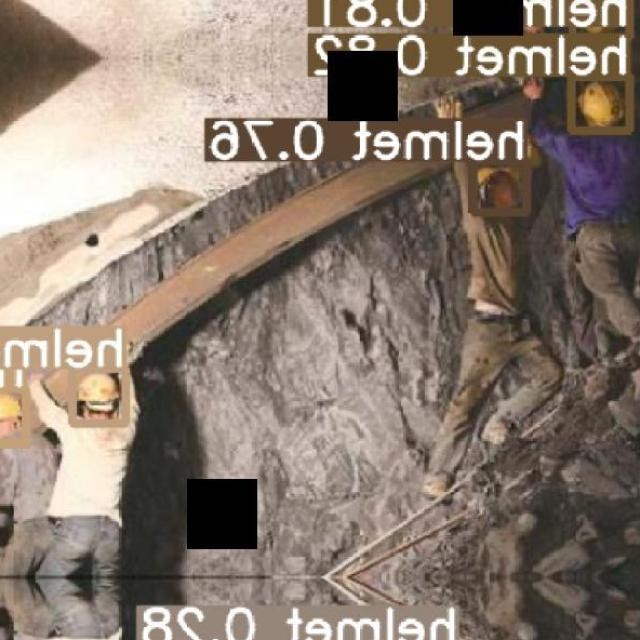helmet: (578, 81, 624, 127), (78, 372, 122, 412), (0, 391, 24, 426)
